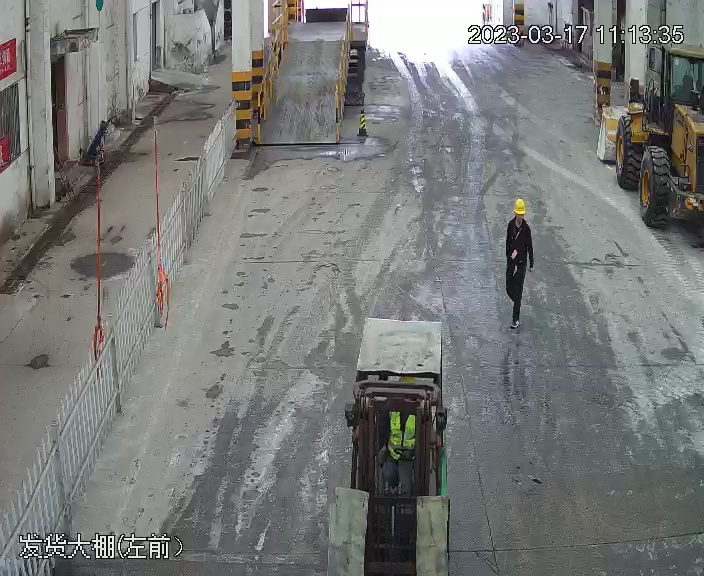head: (506, 198, 532, 239)
helmet: (513, 198, 527, 214)
people: (503, 197, 534, 329)
